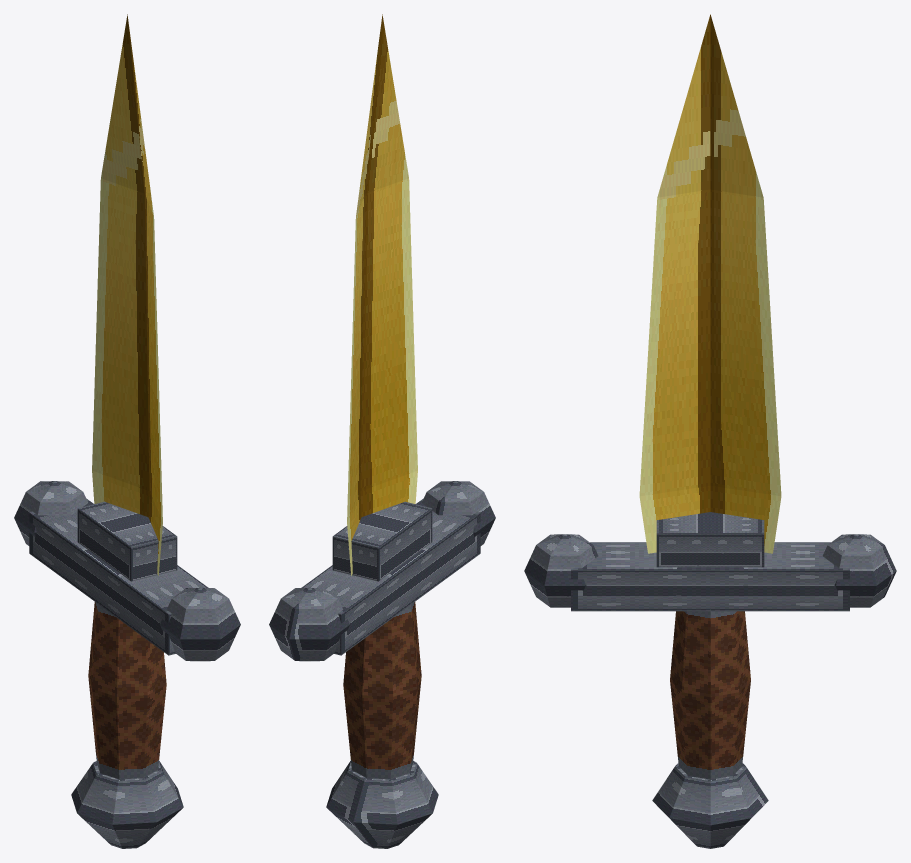
The model's file is adaga_de_ouro.glb.
3 views of the same model, side by side, from view 1: azimuth 30°, elevation 25°; view 2: azimuth 150°, elevation 25°; view 3: azimuth 270°, elevation 25° (orthographic).
Parts seen in each view (by area): view 1: adaga_de_ouro; view 2: adaga_de_ouro; view 3: adaga_de_ouro.
Part boxes in pixels (x1=…): adaga_de_ouro: x1=14, y1=14, x2=240, y2=848; adaga_de_ouro: x1=269, y1=14, x2=495, y2=848; adaga_de_ouro: x1=524, y1=14, x2=896, y2=848.
Size of the model in its own units: 0.092 by 0.72 by 0.294.
1 material, 1 textured.
